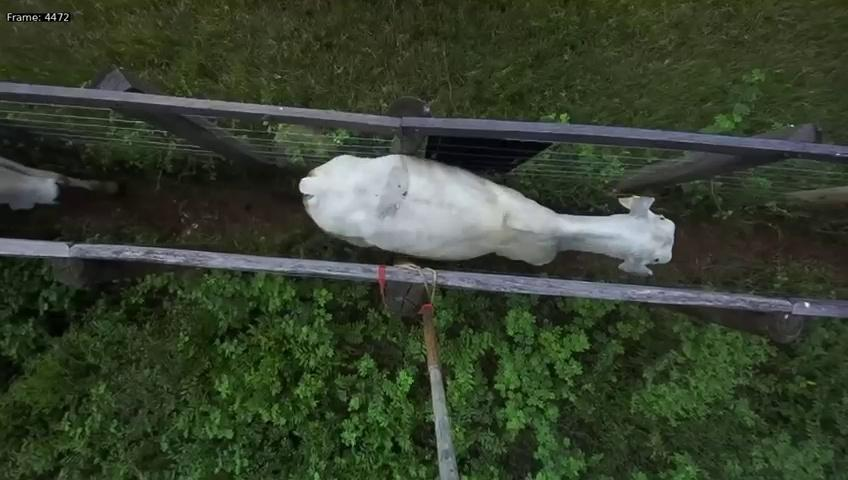cattle: (285, 134, 686, 284)
